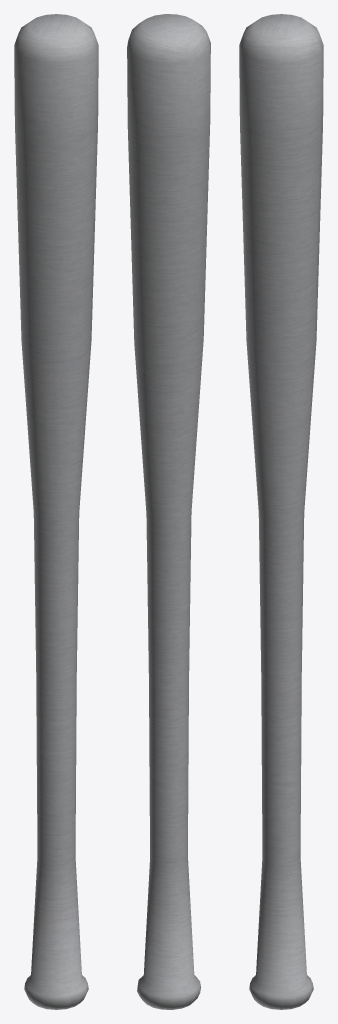
File: BATPLATEADOGACHA.glb
3 views of the same model, side by side, from view 1: azimuth 90°, elevation 25°; view 2: azimuth 210°, elevation 25°; view 3: azimuth 270°, elevation 25° (orthographic).
Visible parts, largest first — view 1: Cube; view 2: Cube; view 3: Cube.
Boxes of the visible parts, <box> form: Cube: <box>14,14,98,1009</box>; Cube: <box>127,14,210,1009</box>; Cube: <box>239,14,323,1009</box>.
Size of the model in its own units: 0.3148 by 4.01 by 0.3148.
Materials: 1 (1 with a texture image).
